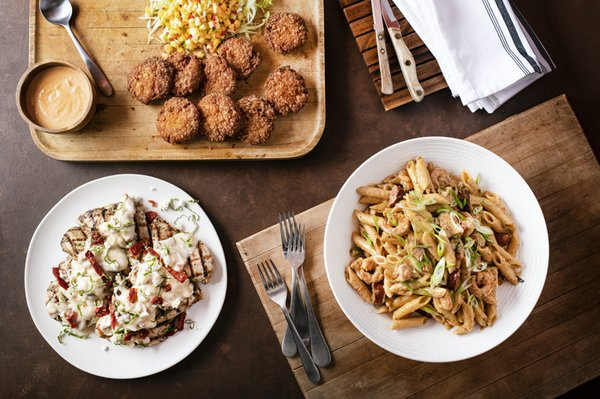burger: (278, 213, 333, 379), (254, 258, 320, 385)
pizza: (17, 61, 95, 134)
salad: (40, 0, 115, 98)
sandwich: (277, 212, 333, 371), (381, 0, 426, 105)
sushi: (323, 137, 549, 363), (25, 175, 227, 378)
